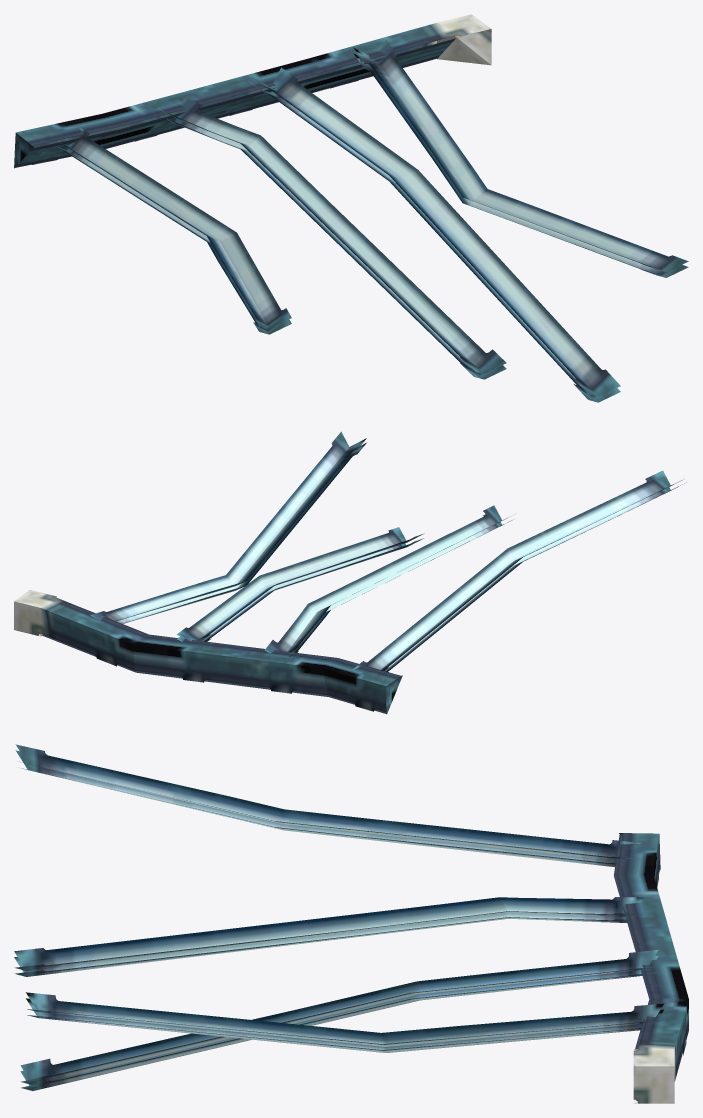
Rendered from cage_broken2.obj.
The picture shows the model from 3 angles, top to bottom: view 1: azimuth 30°, elevation 25°; view 2: azimuth 150°, elevation 25°; view 3: azimuth 270°, elevation 25°; orthographic projection. The views are drawn at different scales.
Parts seen in each view (by area): view 1: Object_1; view 2: Object_1; view 3: Object_1.
Boxes of the visible parts, x1=… form: Object_1: x1=14, y1=14, x2=688, y2=402; Object_1: x1=14, y1=431, x2=686, y2=714; Object_1: x1=14, y1=744, x2=688, y2=1103.
Size of the model in its own units: 19.26 by 5.79 by 20.55.
1 material, 1 textured.
